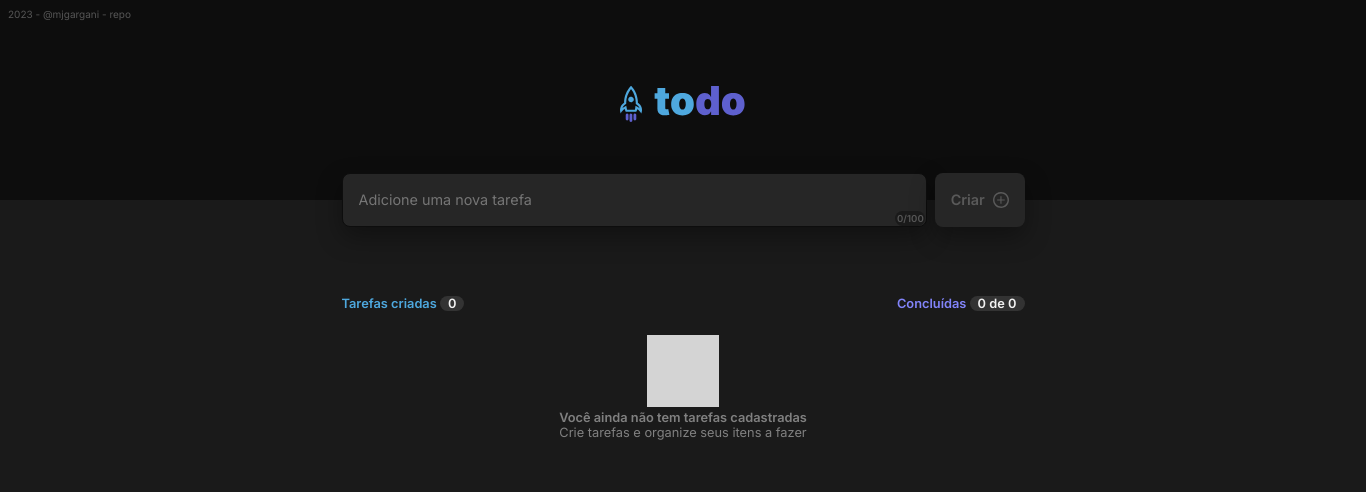
Test case: App test › Can add some tasks on the current list
This screenshot has width=1366, height=492.
Type "Minha nova task 1" into the field with test id "task_input" at (634, 200), box [342,173,927,227]
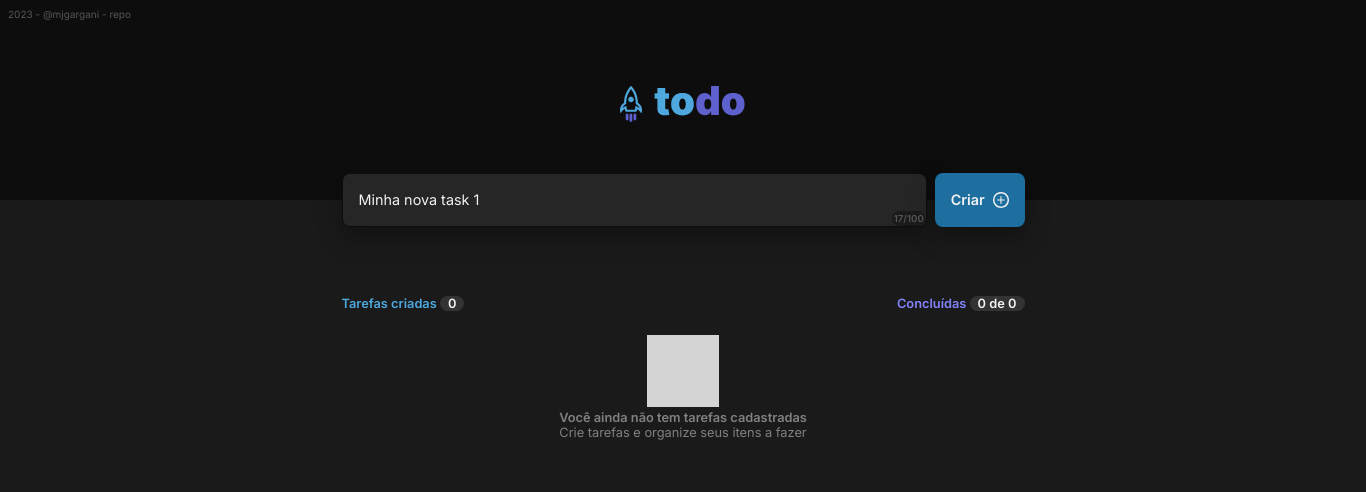
Click the button with test id "task_submit" at (980, 200), box [935,173,1024,227]
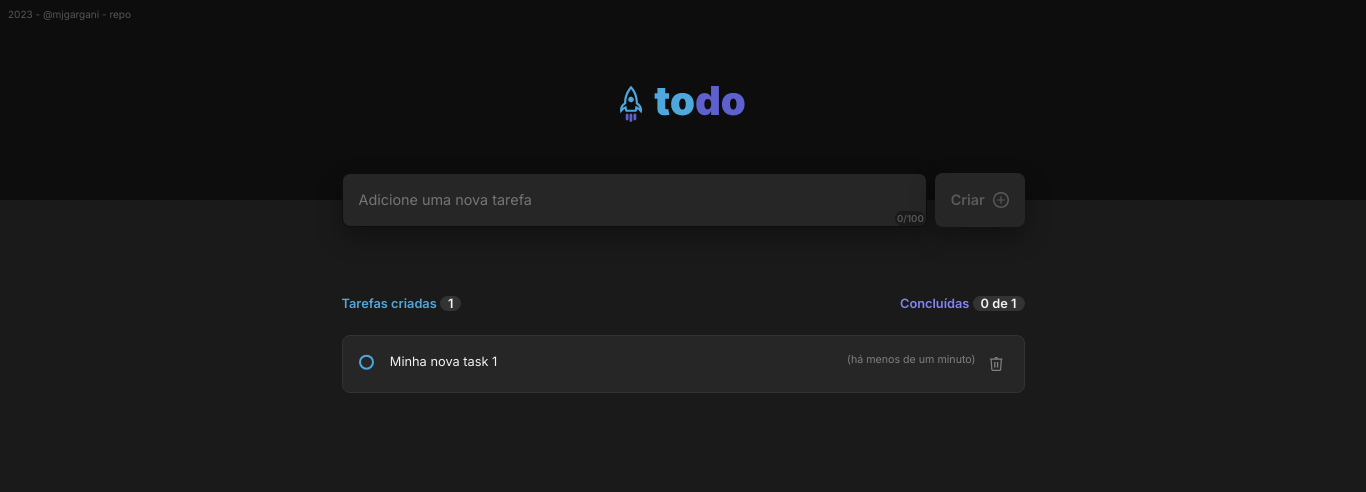
Expected: the element with test id "task_list_container" shows "Minha nova task 1", [390,354,497,369]
Type "Minha nova task 2" into the field with test id "task_input" at (634, 200), box [342,173,927,227]
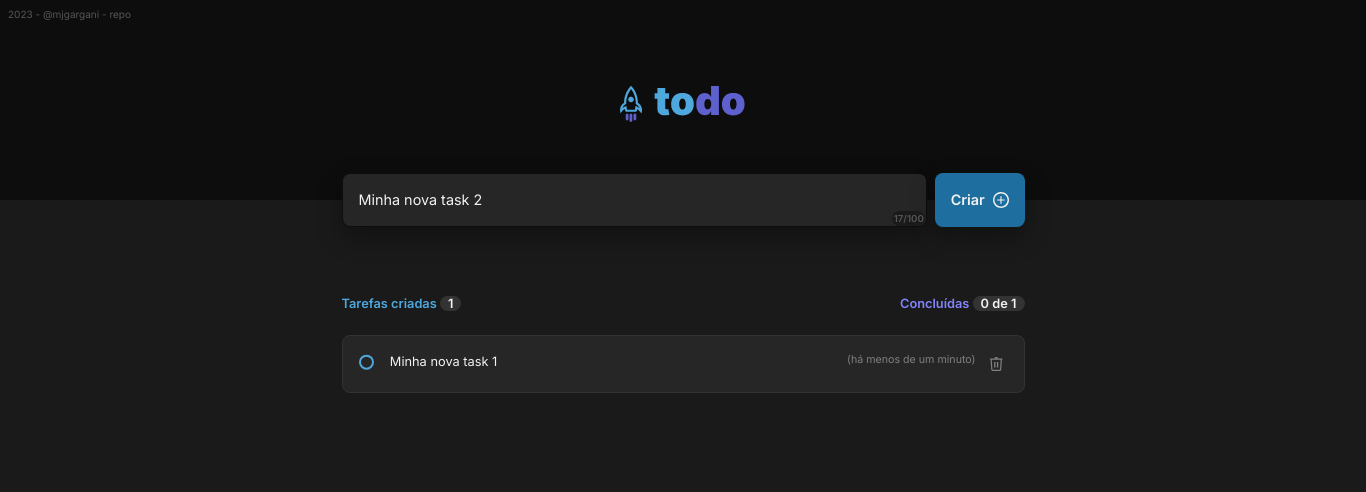
Click the button with test id "task_submit" at (980, 200), box [935,173,1024,227]
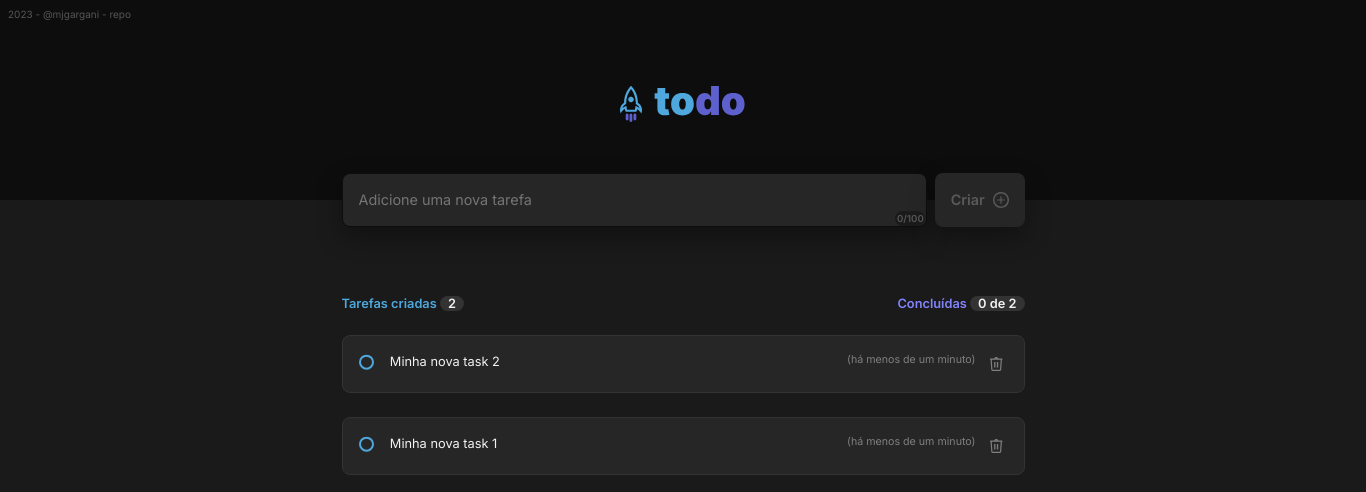
Expected: the element with test id "task_list_container" shows "Minha nova task 2", [390,354,500,369]
